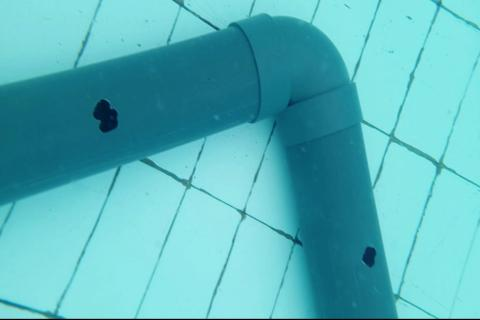kebocoran: (93, 96, 119, 134), (361, 245, 377, 267)
